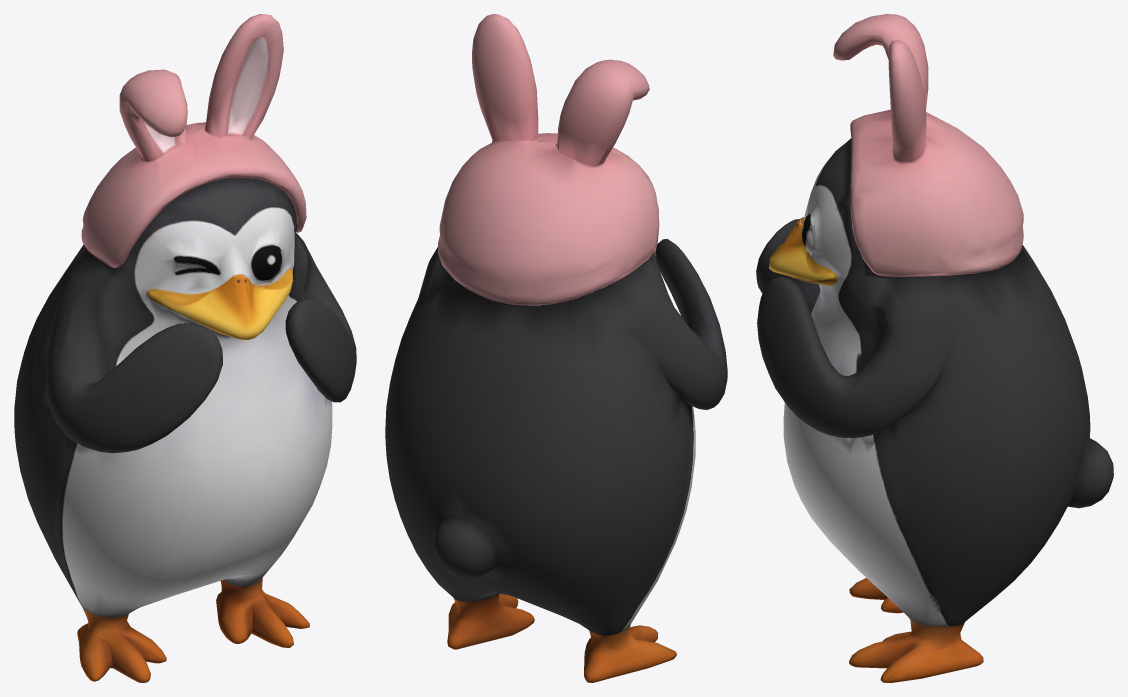
File: 高雅企鹅-卖萌.fbx
3 views of the same model, side by side, from view 1: azimuth 30°, elevation 25°; view 2: azimuth 150°, elevation 25°; view 3: azimuth 270°, elevation 25° (orthographic). The views are drawn at different scales.
Visible parts, largest first — view 1: tripo_node_42a69ab4; view 2: tripo_node_42a69ab4; view 3: tripo_node_42a69ab4.
Part boxes in pixels (x1,y1,x2,y2): tripo_node_42a69ab4: (14,14,356,682); tripo_node_42a69ab4: (385,14,727,682); tripo_node_42a69ab4: (756,14,1113,682).
Size of the model in its own units: 0.4913 by 1 by 0.5212.
1 material, 1 textured.
